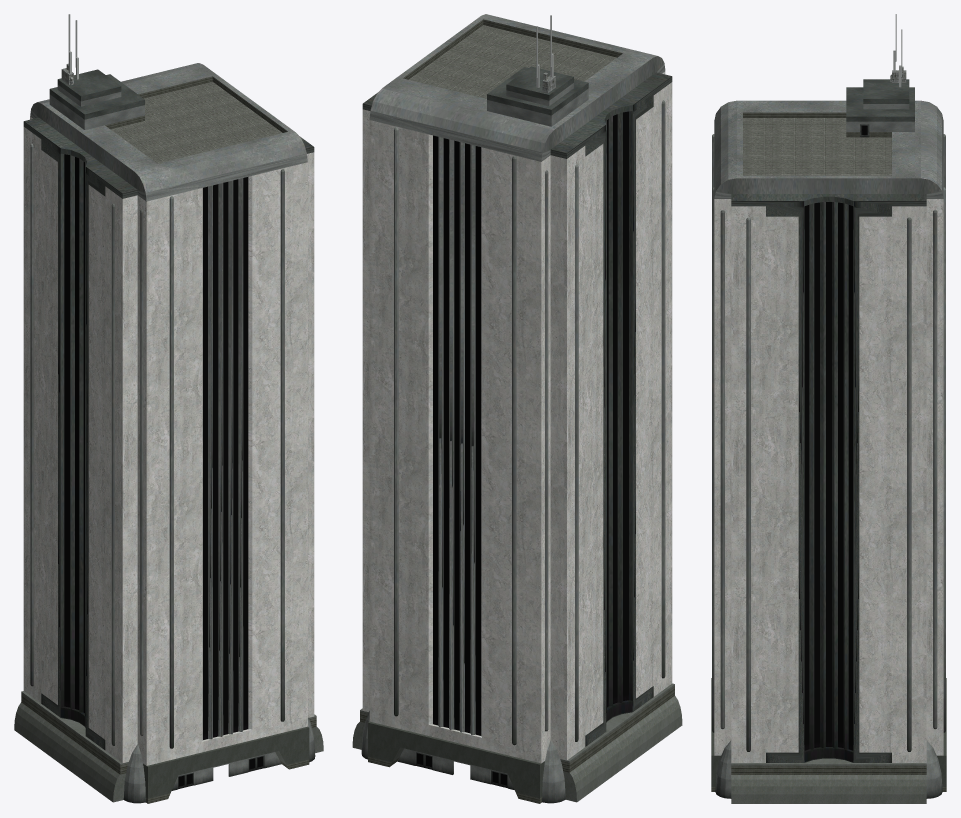
The model's file is thm_corl_imprv_building_s01_r0_mesh_l1.fbx.
3 views of the same model, side by side, from view 1: azimuth 30°, elevation 25°; view 2: azimuth 150°, elevation 25°; view 3: azimuth 270°, elevation 25° (orthographic). The views are drawn at different scales.
Visible parts, largest first — view 1: mesh_node; view 2: mesh_node; view 3: mesh_node.
Boxes of the visible parts, x1,y1,x2,y2 form: mesh_node: (14, 14, 323, 803); mesh_node: (352, 14, 682, 803); mesh_node: (711, 14, 946, 803).
Size of the model in its own units: 41.8 by 136 by 41.
